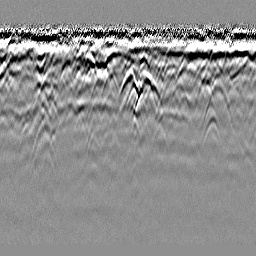cavity: (117, 63, 139, 100)
